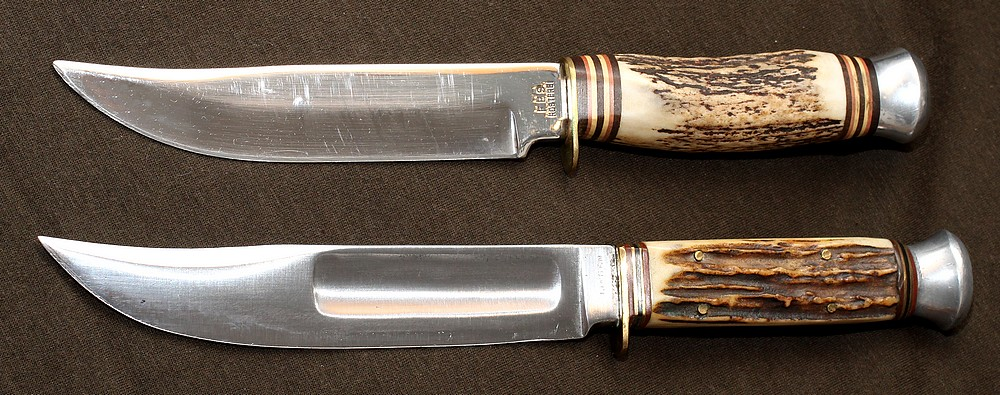knife: (34, 220, 976, 353), (46, 43, 941, 178)
